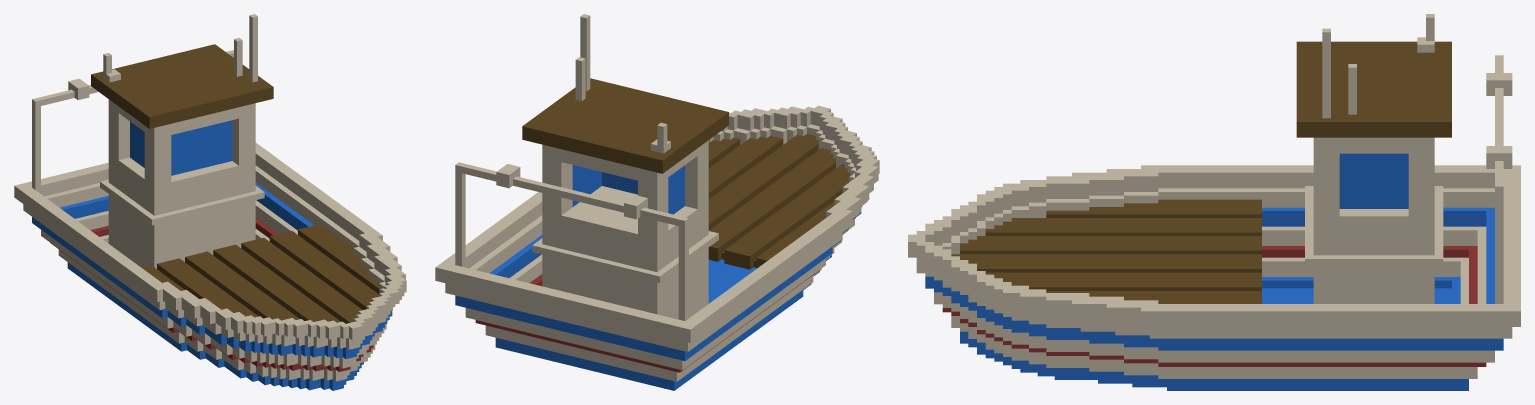
File: Background_C_boat_01.FBX
3 views of the same model, side by side, from view 1: azimuth 30°, elevation 25°; view 2: azimuth 150°, elevation 25°; view 3: azimuth 270°, elevation 25° (orthographic). The views are drawn at different scales.
Parts seen in each view (by area): view 1: Background_C-17; view 2: Background_C-17; view 3: Background_C-17.
Part boxes in pixels (<box>): Background_C-17: <box>14,14,406,390</box>; Background_C-17: <box>435,14,879,390</box>; Background_C-17: <box>908,14,1520,390</box>.
Size of the model in its own units: 4 by 4.4 by 7.1.
Materials: 1 (1 with a texture image).
